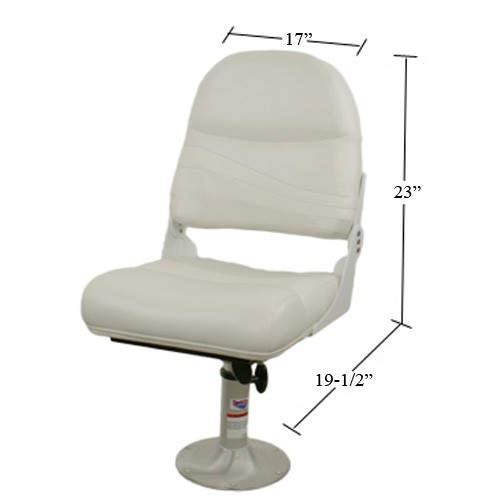chairs: (80, 50, 377, 492)
